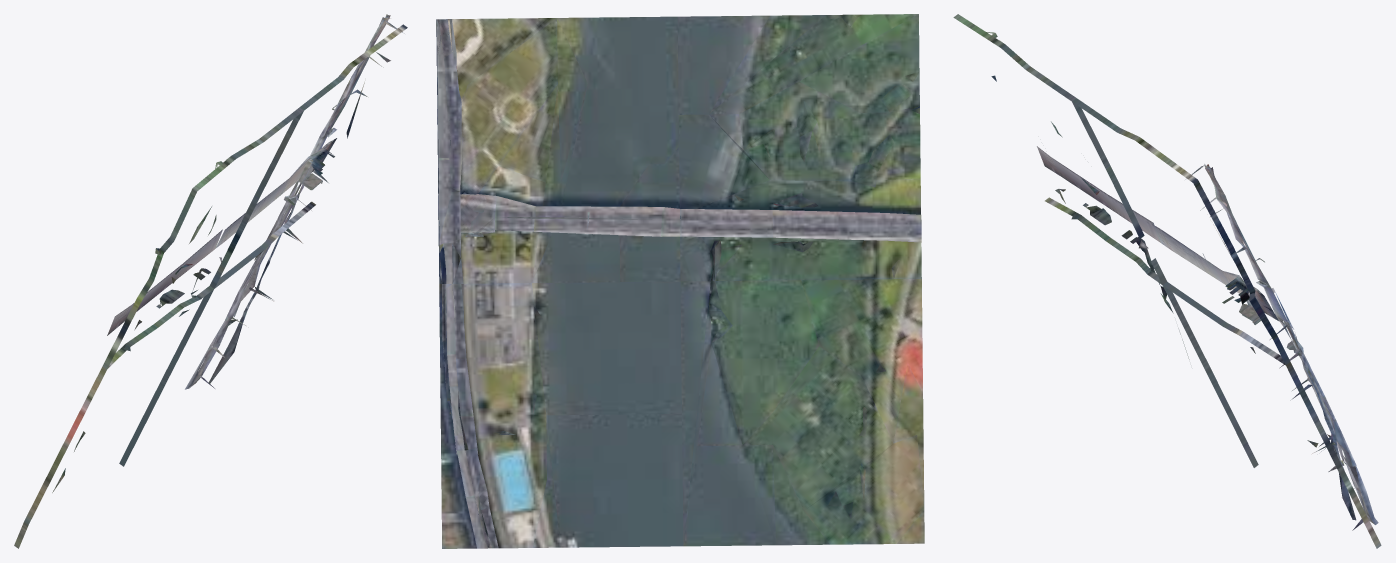
3 renders of one model, left to right at view 1: azimuth 30°, elevation 25°; view 2: azimuth 150°, elevation 25°; view 3: azimuth 270°, elevation 25°, orthographic. The views are drawn at different scales.
Bounding box in the file's own units: 610 × 567 × 517.
1 material, 1 textured.
